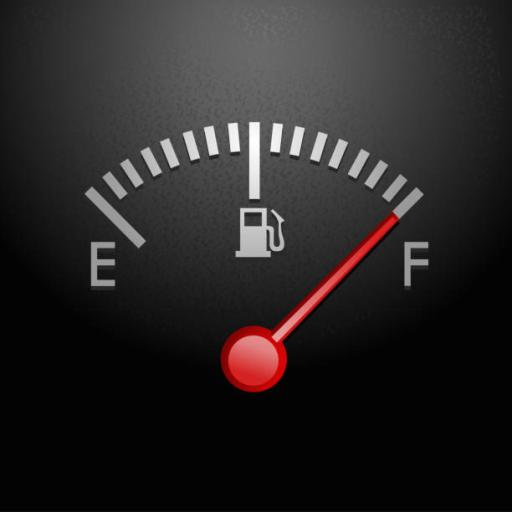empty: (79, 228, 123, 296)
fuel_icon: (231, 201, 288, 267)
full: (398, 234, 430, 294)
guage_area: (52, 102, 444, 424)
needle_center: (220, 314, 294, 398)
needle_tip: (366, 201, 407, 231)
